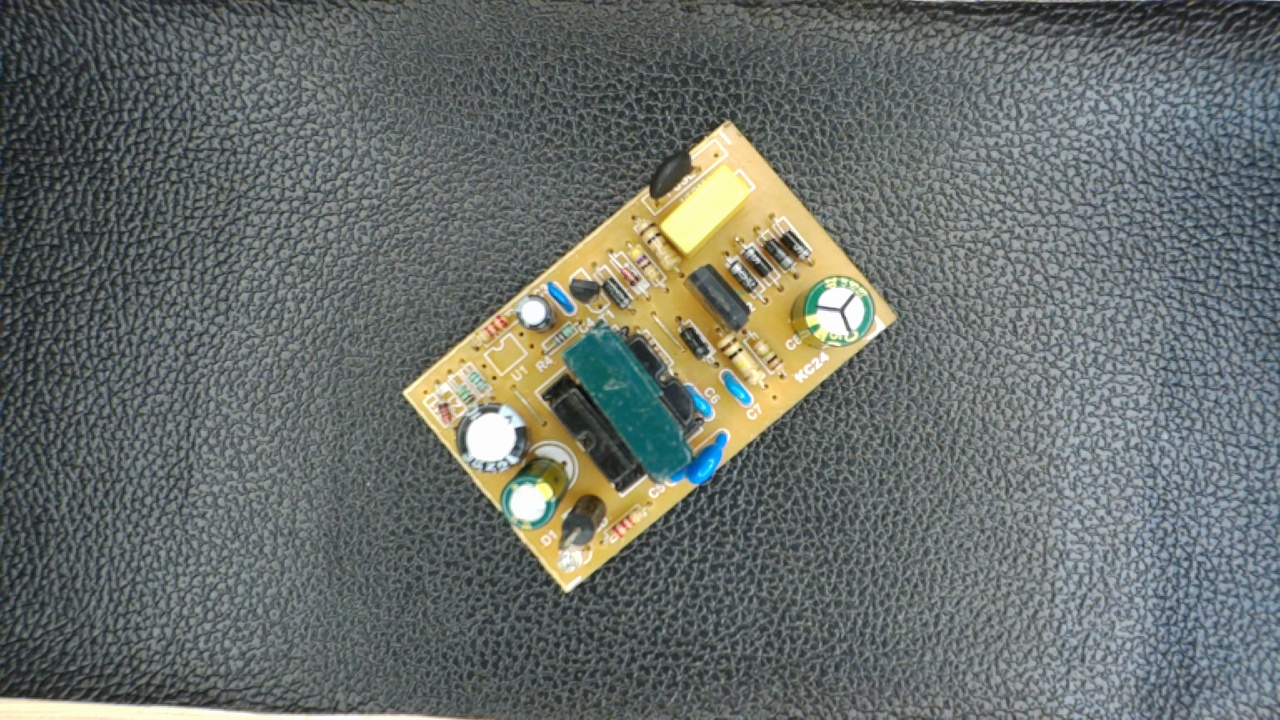fuse: (642, 149, 705, 215)
hv_capacitor: (791, 273, 879, 353)
mov: (666, 425, 732, 489)
